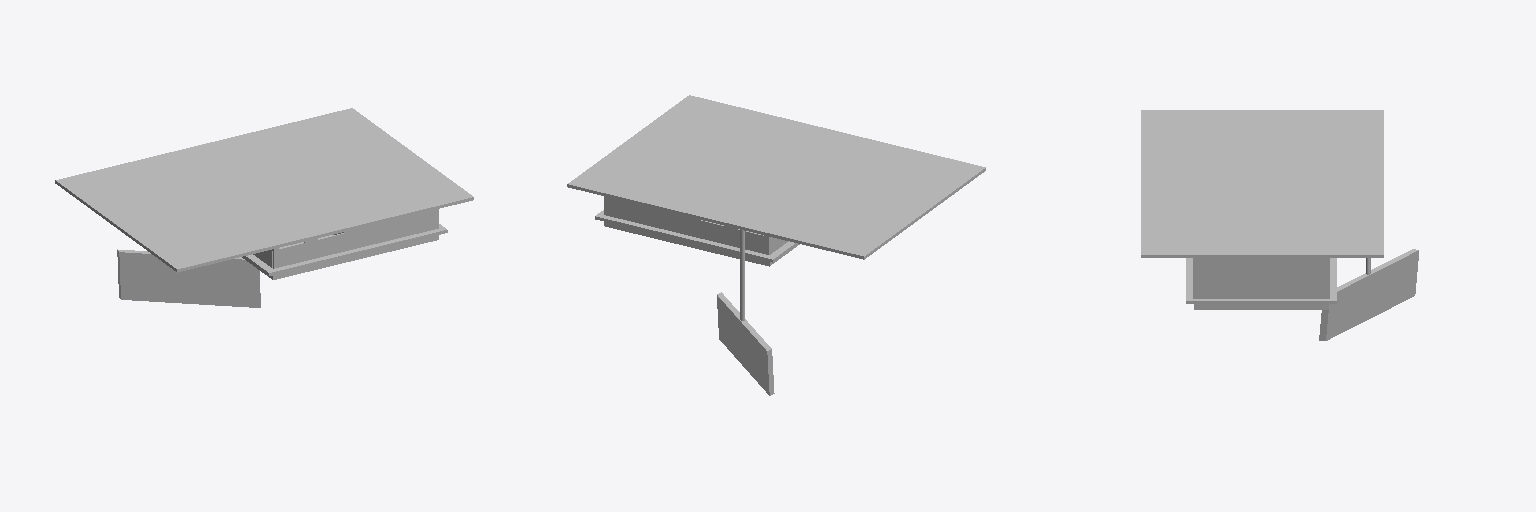
File: restaurant.obj
3 renders of one model, left to right at view 1: azimuth 30°, elevation 25°; view 2: azimuth 150°, elevation 25°; view 3: azimuth 270°, elevation 25°, orthographic.
Parts seen in each view (by area): view 1: Cube.008, Cube.004, Cube.019, Cube.020; view 2: Cube.008, Cube.002, Cube.019, Cube.020; view 3: Cube.008, Cube.003, Cube.019, Cube.020.
Part boxes in pixels (bbox=[...]): Cube.008: bbox=[55, 108, 473, 307]; Cube.004: bbox=[273, 209, 438, 268]; Cube.019: bbox=[243, 224, 447, 275]; Cube.020: bbox=[242, 235, 438, 279]; Cube.008: bbox=[567, 95, 985, 395]; Cube.002: bbox=[604, 196, 769, 254]; Cube.019: bbox=[595, 210, 797, 262]; Cube.020: bbox=[604, 222, 799, 266]; Cube.008: bbox=[1141, 110, 1418, 340]; Cube.003: bbox=[1194, 258, 1327, 298]; Cube.019: bbox=[1186, 258, 1336, 303]; Cube.020: bbox=[1194, 304, 1328, 309].
Bounding box in the file's own units: 77.2 × 36.63 × 62.79.